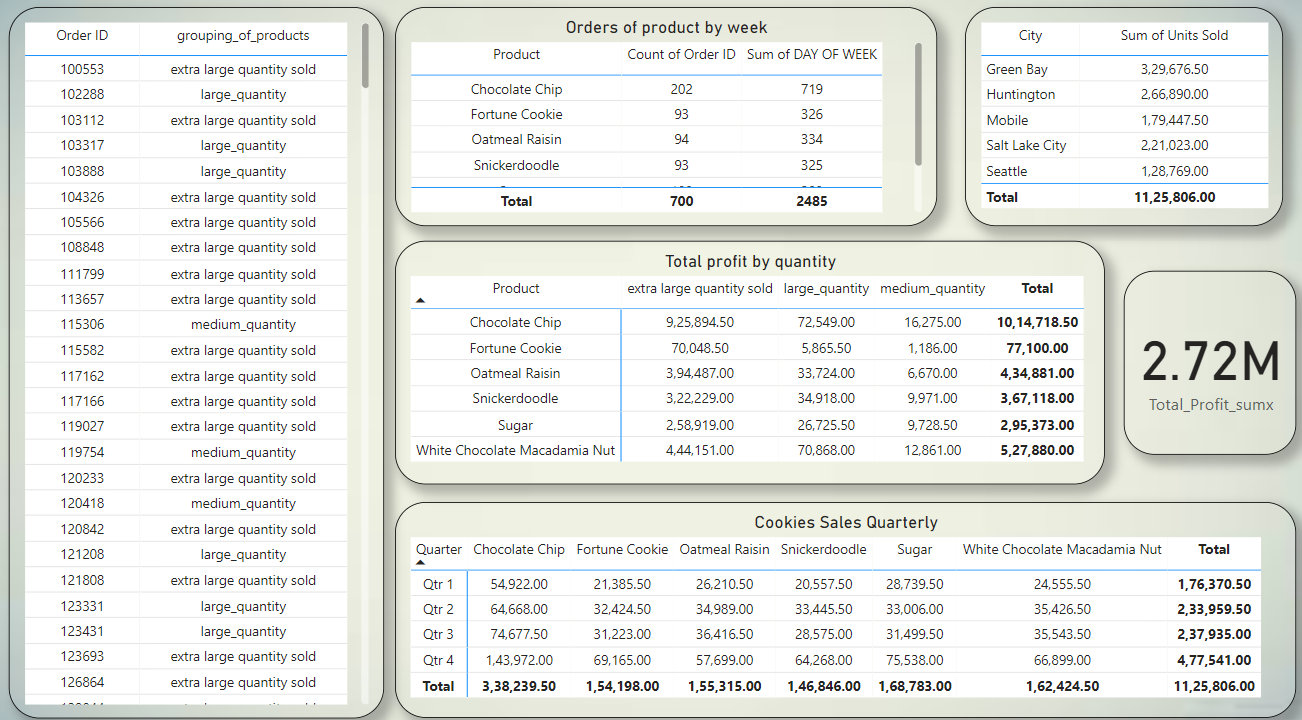

Layout of this report page (visuals, bound fields, positions):
{"tool":"powerbi","page":{"name":"Page 2","canvas":[1280,720],"ordinal":1},"visuals":[{"type":"pivotTable","title":"Total profit by quantity","fields":{"Rows":["Orders.Product"],"Values":["Sum(Orders.Profit)"],"Columns":["Orders.grouping_of_products"]},"box":[391.4,242.9,694.3,238.6],"z":0},{"type":"tableEx","title":"Orders of product by week","fields":{"Values":["Orders.Product","CountNonNull(Orders.Order ID)","Sum(Orders.DAY OF WEEK)"]},"box":[391.4,14.3,530,214.3],"z":1000},{"type":"pivotTable","title":" Cookies  Sales  Quarterly","fields":{"Rows":["Orders.Date.Variation.Date Hierarchy.Quarter"],"Columns":["Cookie Types.Cookie Type"],"Values":["Sum(Orders.Units Sold)"]},"box":[391.4,498.6,881.4,211.4],"z":2000},{"type":"tableEx","fields":{"Values":["Orders.Order ID","Orders.grouping_of_products"]},"box":[12.9,14.3,367.1,695.7],"z":3000},{"type":"tableEx","fields":{"Values":["Customers.City","Sum(Orders.Units Sold)"]},"box":[948.6,14.3,311.4,214.3],"z":4000},{"type":"card","fields":{"Values":["Orders.Total_Profit_sumx"]},"box":[1104.3,272.9,168.6,180],"z":4001}]}

Visuals, with their boxes in screenshot pixels (x1, y1, x2, y2), scaled from the page's 1280x720 canvas onto the 1302x720 screenshot:
"Total profit by quantity" pivotTable: <box>398,243,1104,482</box>
"Orders of product by week" tableEx: <box>398,14,937,229</box>
" Cookies  Sales  Quarterly" pivotTable: <box>398,499,1295,710</box>
tableEx - Orders.Order ID x Orders.grouping_of_products: <box>13,14,387,710</box>
tableEx - Customers.City x Sum(Orders.Units Sold): <box>965,14,1282,229</box>
card - Orders.Total_Profit_sumx: <box>1123,273,1295,453</box>
